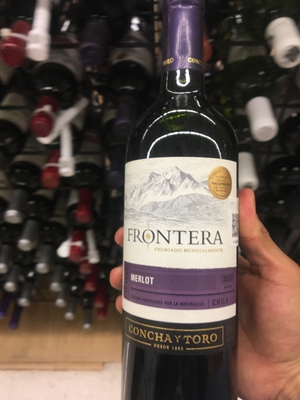frontera merlot: (114, 12, 263, 400)
